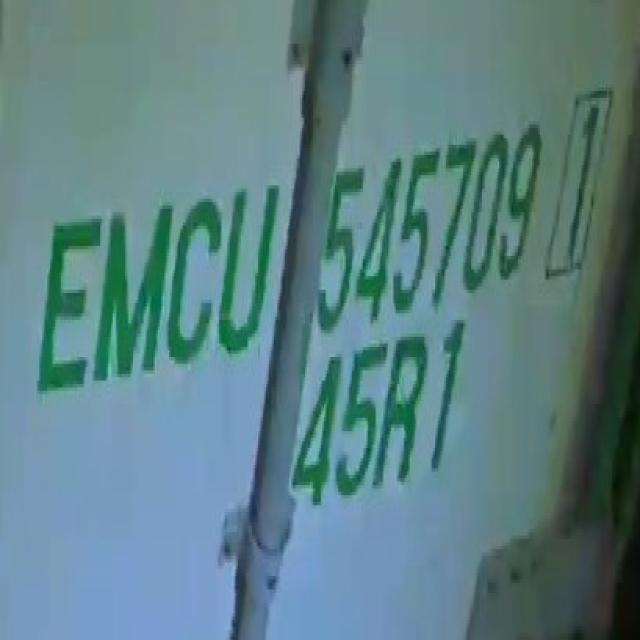dv: (548, 88, 620, 287)
owner: (24, 167, 277, 416)
serial: (316, 111, 544, 337)
size: (293, 320, 472, 525)
